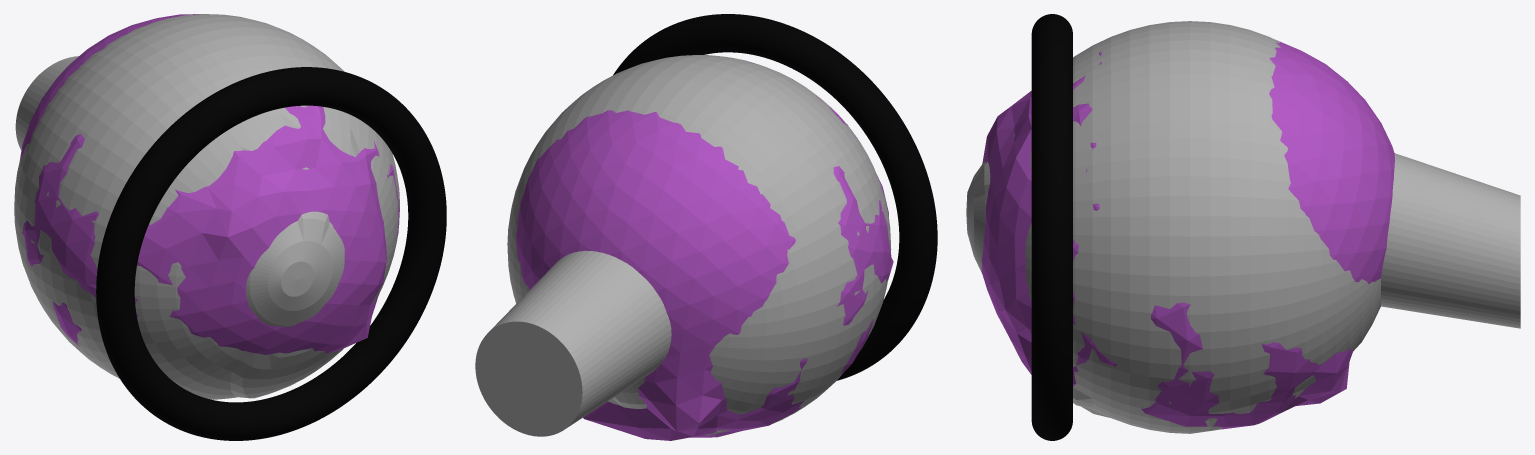
The model's file is C0_DEFORM_ONLY.glb.
The picture shows the model from 3 angles, left to right: view 1: azimuth 30°, elevation 25°; view 2: azimuth 150°, elevation 25°; view 3: azimuth 270°, elevation 25°; orthographic projection. The views are drawn at different scales.
Parts seen in each view (by area): view 1: GT_EVALUATION_ONLY, C0_DEFORM_ONLY, Ring_CAD; view 2: GT_EVALUATION_ONLY, C0_DEFORM_ONLY, Ring_CAD; view 3: GT_EVALUATION_ONLY, C0_DEFORM_ONLY, Ring_CAD.
Part boxes in pixels (left/top/right/bottom): GT_EVALUATION_ONLY: left=14, top=14, right=399, bottom=399; C0_DEFORM_ONLY: left=20, top=14, right=399, bottom=354; Ring_CAD: left=96, top=67, right=446, bottom=440; GT_EVALUATION_ONLY: left=475, top=55, right=891, bottom=436; C0_DEFORM_ONLY: left=516, top=58, right=893, bottom=440; Ring_CAD: left=613, top=14, right=937, bottom=380; GT_EVALUATION_ONLY: left=966, top=21, right=1520, bottom=433; C0_DEFORM_ONLY: left=981, top=40, right=1394, bottom=429; Ring_CAD: left=1031, top=14, right=1072, bottom=440.
Bounding box in the file's own units: 0.0124 × 0.0124 × 0.0161.
